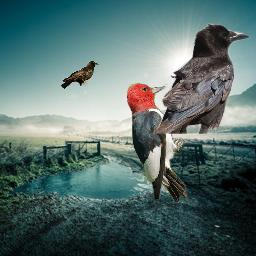Crow: (154, 23, 251, 134), (61, 60, 100, 90)
Woodpecker: (127, 82, 189, 203)
